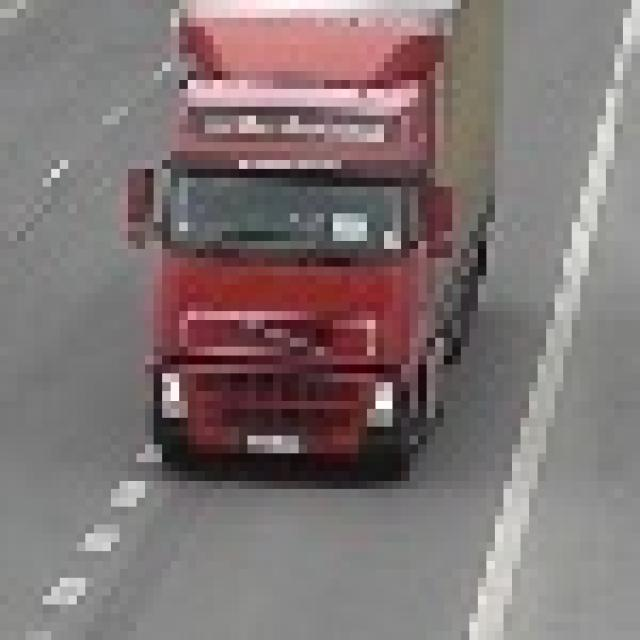TRUCK: (125, 0, 501, 473)
